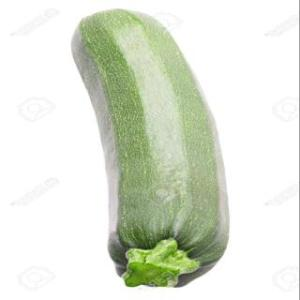zucchini: (77, 3, 229, 297)
